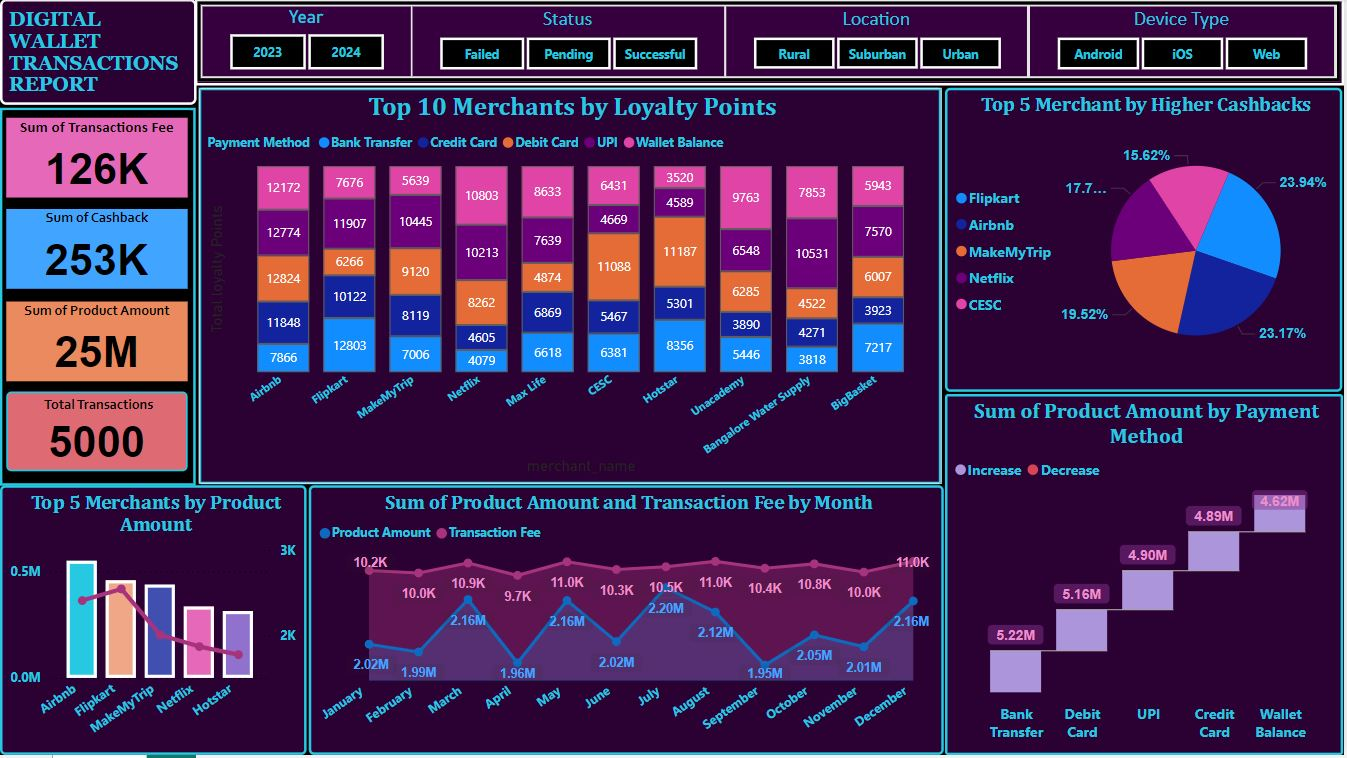

Layout of this report page (visuals, bound fields, positions):
{"tool":"powerbi","page":{"name":"Page 1","canvas":[1280,720],"ordinal":0},"visuals":[{"type":"shape","box":[0,103.3,186.2,360.2],"z":0},{"type":"shape","box":[185.8,0,1094.2,82],"z":1000},{"type":"slicer","title":"Year","fields":{"Values":["digital_wallet_transactions.transaction_date.Variation.Date Hierarchy.Year"]},"box":[192.9,7.1,198,66.7],"z":2000},{"type":"card","title":"Sum of Transactions Fee","fields":{"Values":["Sum(digital_wallet_transactions.transaction_fee)"]},"box":[6,113.1,172.6,76.2],"z":3000},{"type":"textbox","box":[0,0,187,101],"z":4000},{"type":"card","title":"Sum of Cashback","fields":{"Values":["Sum(digital_wallet_transactions.cashback)"]},"box":[5.4,199.8,172.6,76.1],"z":5000},{"type":"card","title":"Sum of Product Amount","fields":{"Values":["Sum(digital_wallet_transactions.product_amount)"]},"box":[5.4,288.1,172.6,76.1],"z":6000},{"type":"slicer","title":"Device Type","fields":{"Values":["digital_wallet_transactions.device_type"]},"box":[981,7.1,289.3,66.7],"z":7000},{"type":"slicer","title":"Location","fields":{"Values":["digital_wallet_transactions.location"]},"box":[691.8,6.8,286.8,66.6],"z":8000},{"type":"slicer","title":"Status","fields":{"Values":["digital_wallet_transactions.transaction_status"]},"box":[392.9,7.1,296.4,66.7],"z":9000},{"type":"lineStackedColumnComboChart","title":"Top 5 Merchants by Product Amount","fields":{"Category":["digital_wallet_transactions.merchant_name"],"Y":["Sum(digital_wallet_transactions.product_amount)"],"Y2":["Sum(digital_wallet_transactions.transaction_fee)"]},"box":[0,463.5,292.2,256.9],"z":10000},{"type":"lineChart","title":"Sum of Product Amount and Transaction Fee by Month","fields":{"Category":["digital_wallet_transactions.transaction_date.Variation.Date Hierarchy.Month"],"Y":["Sum(digital_wallet_transactions.product_amount)"],"Y2":["Sum(digital_wallet_transactions.transaction_fee)"]},"box":[293.6,463.1,605,256.9],"z":11000},{"type":"card","title":"Total Transactions","fields":{"Values":["Count(digital_wallet_transactions.transaction_id)"]},"box":[5.4,373.8,172.6,76.1],"z":12000},{"type":"pieChart","title":"Top 5 Merchant by Higher Cashbacks","fields":{"Category":["digital_wallet_transactions.merchant_name"],"Y":["Sum(digital_wallet_transactions.cashback)"]},"box":[899.7,84.3,378,289.5],"z":13000},{"type":"hundredPercentStackedColumnChart","title":"Top 10 Merchants by Loyalty Points","fields":{"Category":["digital_wallet_transactions.merchant_name"],"Y":["Sum(digital_wallet_transactions.loyalty_points)"],"Series":["digital_wallet_transactions.payment_method"]},"box":[188.9,84.3,707,377.8],"z":14000},{"type":"waterfallChart","title":"Sum of Product Amount by Payment Method","fields":{"Category":["digital_wallet_transactions.payment_method"],"Y":["Sum(digital_wallet_transactions.product_amount)"]},"box":[899.7,376.1,379.2,343.9],"z":15000}]}

Visuals, with their boxes in screenshot pixels (x1, y1, x2, y2), scaled from the page's 1280x720 canvas onto the 1347x758 screenshot:
shape: left=0, top=109, right=196, bottom=488
shape: left=196, top=0, right=1346, bottom=86
"Year" slicer: left=203, top=7, right=411, bottom=78
"Sum of Transactions Fee" card: left=6, top=119, right=188, bottom=199
textbox: left=0, top=0, right=197, bottom=106
"Sum of Cashback" card: left=6, top=210, right=187, bottom=290
"Sum of Product Amount" card: left=6, top=303, right=187, bottom=383
"Device Type" slicer: left=1032, top=7, right=1337, bottom=78
"Location" slicer: left=728, top=7, right=1030, bottom=77
"Status" slicer: left=413, top=7, right=725, bottom=78
"Top 5 Merchants by Product Amount" lineStackedColumnComboChart: left=0, top=488, right=307, bottom=757
"Sum of Product Amount and Transaction Fee by Month" lineChart: left=309, top=488, right=946, bottom=757
"Total Transactions" card: left=6, top=394, right=187, bottom=474
"Top 5 Merchant by Higher Cashbacks" pieChart: left=947, top=89, right=1345, bottom=394
"Top 10 Merchants by Loyalty Points" hundredPercentStackedColumnChart: left=199, top=89, right=943, bottom=486
"Sum of Product Amount by Payment Method" waterfallChart: left=947, top=396, right=1346, bottom=757
